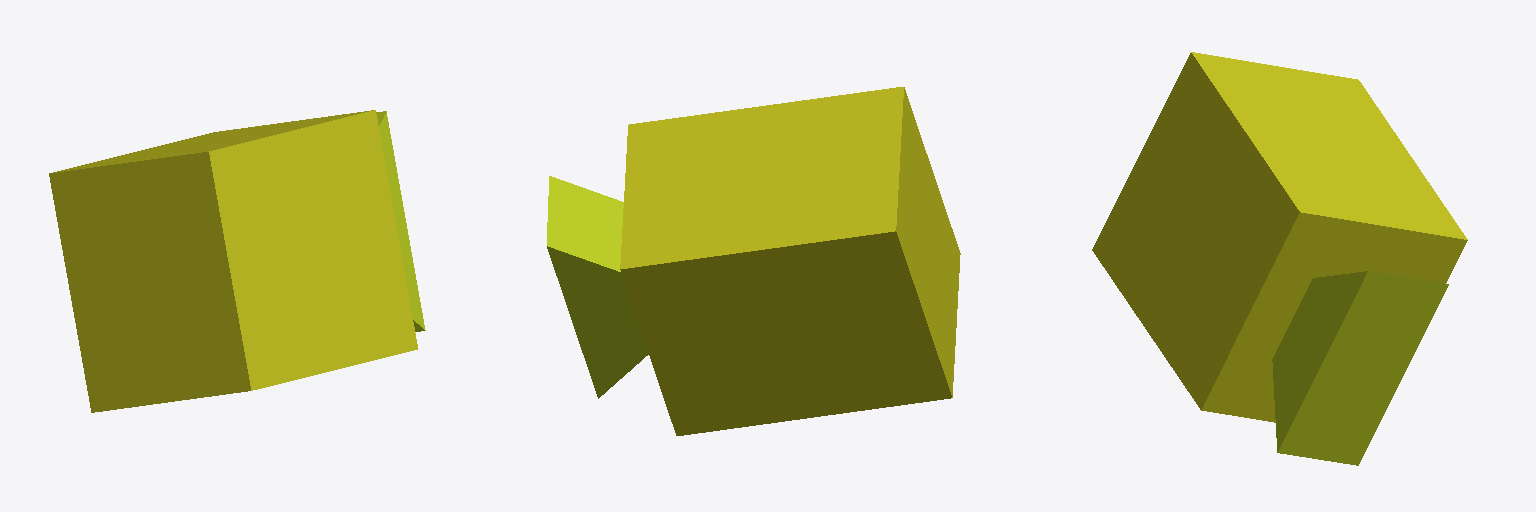
The model's file is came_v2.obj.
3 views of the same model, side by side, from view 1: azimuth 30°, elevation 25°; view 2: azimuth 150°, elevation 25°; view 3: azimuth 270°, elevation 25° (orthographic).
Visible parts, largest first — view 1: Cube_Cube.001; view 2: Cube_Cube.001; view 3: Cube_Cube.001.
Part boxes in pixels (bbox=[...]): Cube_Cube.001: bbox=[49, 110, 425, 412]; Cube_Cube.001: bbox=[547, 87, 960, 435]; Cube_Cube.001: bbox=[1092, 52, 1467, 465].
Size of the model in its own units: 2.41 by 2.1 by 2.24.